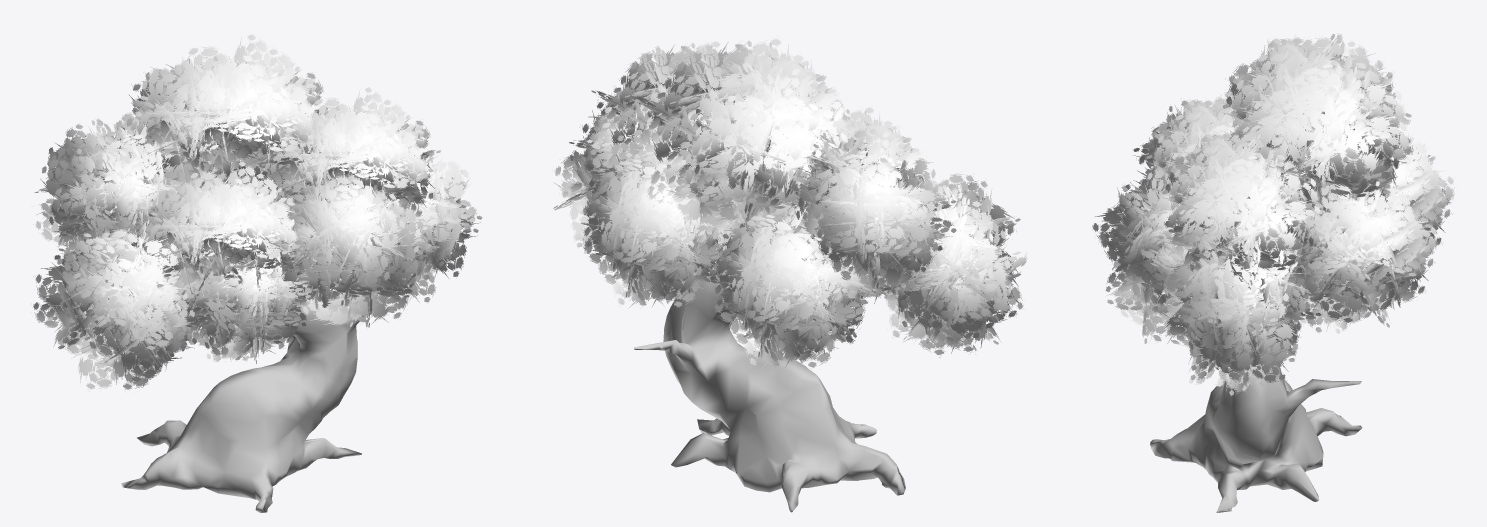
Rendered from hgs_ts05.fbx.
The picture shows the model from 3 angles, left to right: view 1: azimuth 30°, elevation 25°; view 2: azimuth 150°, elevation 25°; view 3: azimuth 270°, elevation 25°; orthographic projection. The views are drawn at different scales.
Parts seen in each view (by area): view 1: yz01, sg01; view 2: yz01, sg01; view 3: yz01, sg01.
Part boxes in pixels (x1=…): yz01: x1=33, y1=31, x2=482, y2=391; sg01: x1=121, y1=284, x2=414, y2=512; yz01: x1=553, y1=35, x2=1027, y2=369; sg01: x1=634, y1=272, x2=905, y2=512; yz01: x1=1092, y1=33, x2=1454, y2=396; sg01: x1=1150, y1=354, x2=1362, y2=512.
Size of the model in its own units: 28.08 by 24.87 by 19.96.
